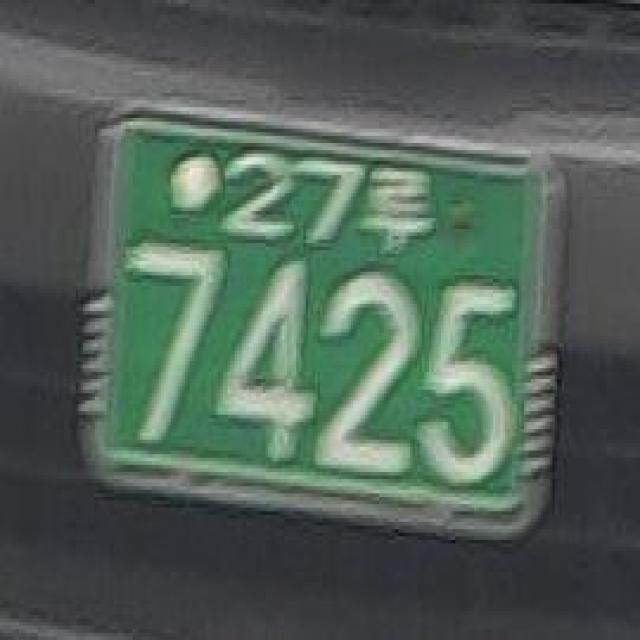illegal_plate: (78, 98, 570, 565)
